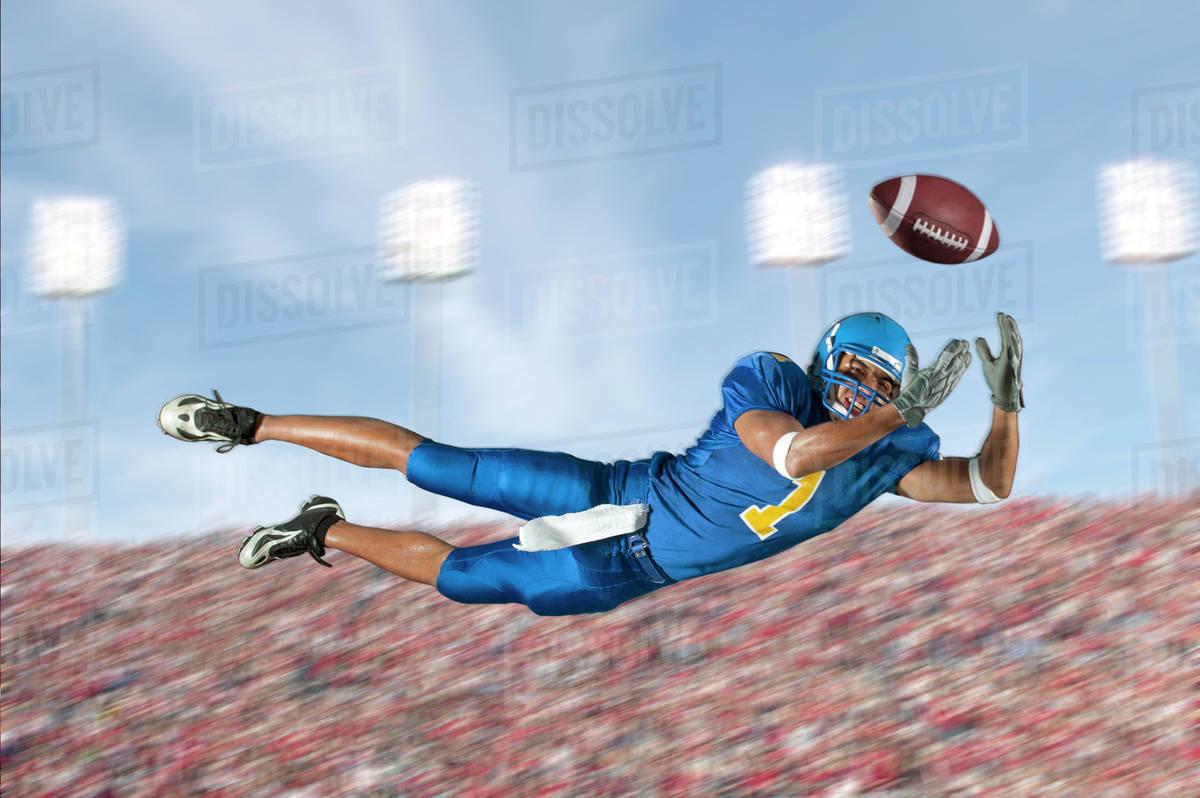ballon_rugby: (872, 174, 999, 263)
